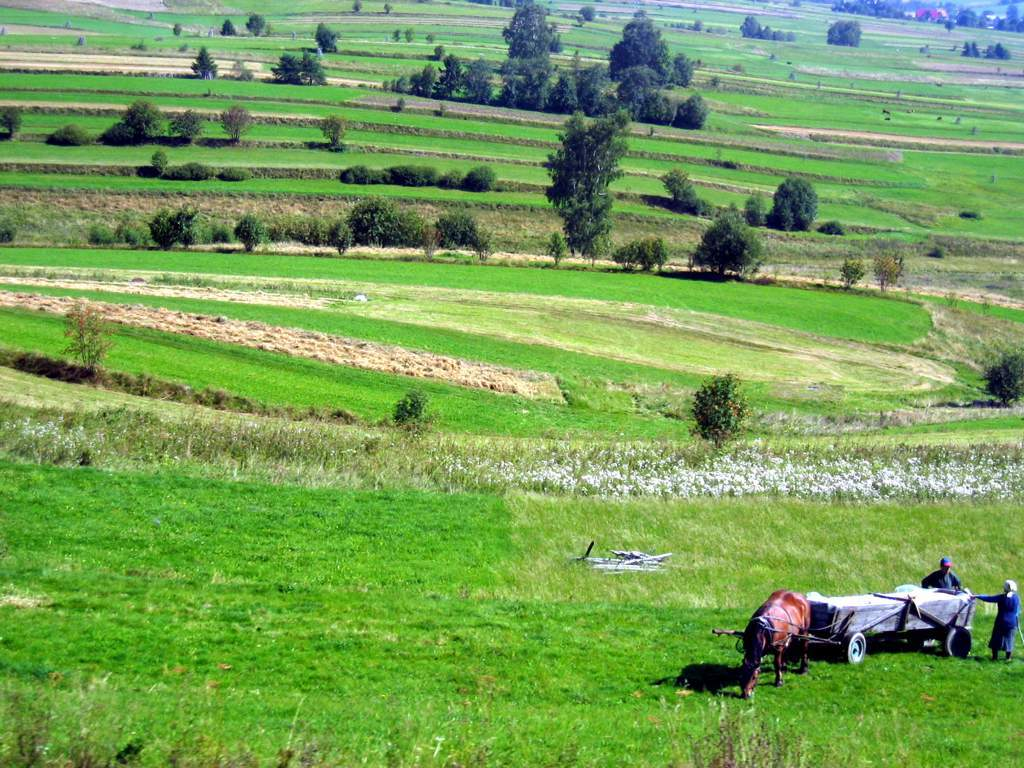Person: (969, 578, 1021, 663), (920, 558, 960, 597)
